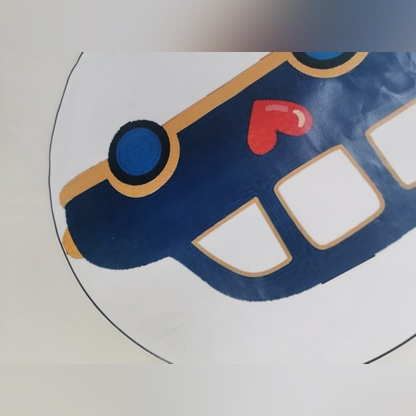car: (56, 51, 416, 333)
